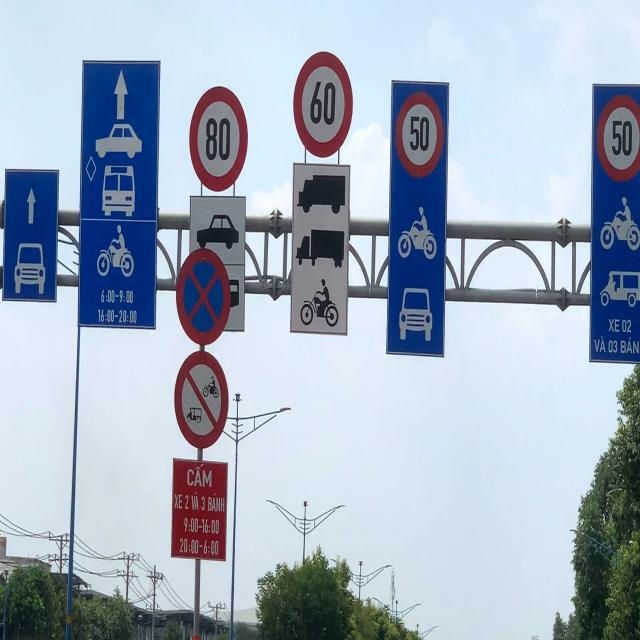P.127: (293, 50, 354, 159), (188, 86, 248, 192), (396, 90, 444, 178), (596, 93, 640, 183)
P.130: (176, 249, 231, 345)
